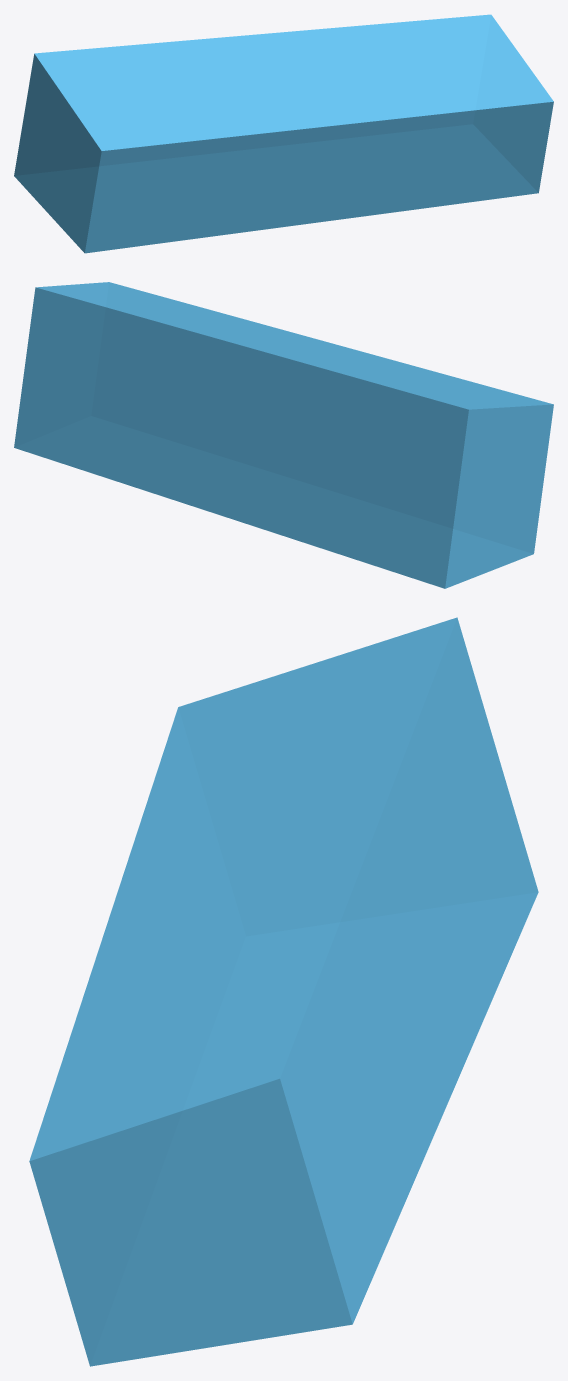
File: Event_421364160_HErechit_40.fbx
3 views of the same model, one above another, from view 1: azimuth 30°, elevation 25°; view 2: azimuth 150°, elevation 25°; view 3: azimuth 270°, elevation 25° (orthographic). The views are drawn at different scales.
Parts seen in each view (by area): view 1: Model; view 2: Model; view 3: Model.
Boxes of the visible parts, x1=… form: Model: x1=14, y1=14, x2=553, y2=253; Model: x1=14, y1=282, x2=553, y2=588; Model: x1=29, y1=617, x2=538, y2=1366.
Size of the model in its own units: 1.3 by 0.5204 by 0.6932.
